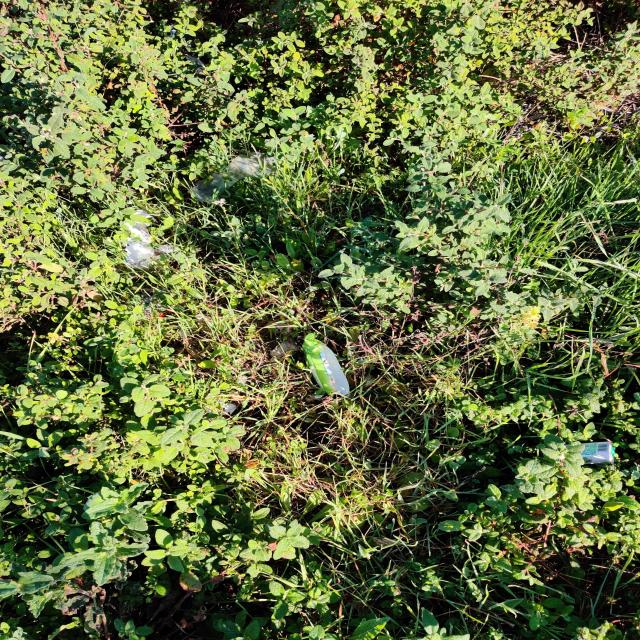litter: (189, 152, 274, 203), (123, 208, 179, 267), (305, 334, 348, 396), (565, 442, 613, 465)
